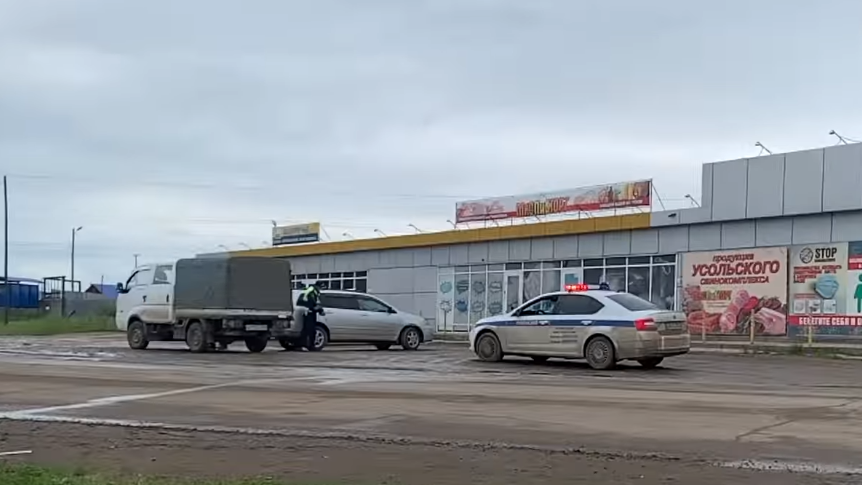non emergency car: (117, 254, 295, 354), (290, 288, 434, 350)
police car: (469, 283, 692, 373)
